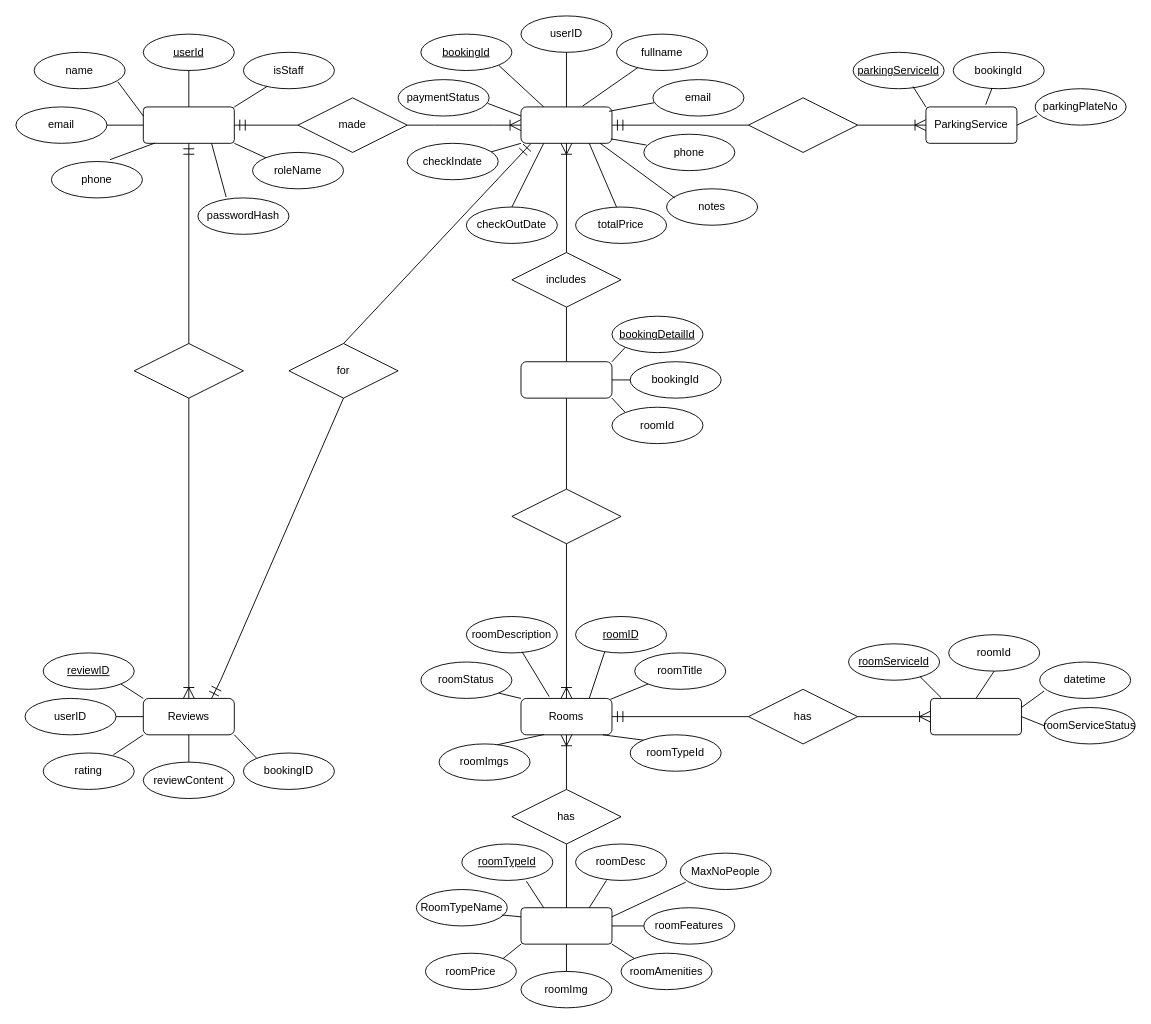
Image size: 1151x1024. Some labels were removed from this diagram. The centre of each missing label's shape, as x and y in pixels:
"assigned to" belongs at point 566,516.
"belongs to" belongs at point 803,124.
"BookingDetails" belongs at point 566,379.
"Bookings" belongs at point 566,124.
"RoomService" belongs at point 975,716.
"RoomType" belongs at point 566,925.
"Users" belongs at point 188,124.
"wrote" belongs at point 188,370.
